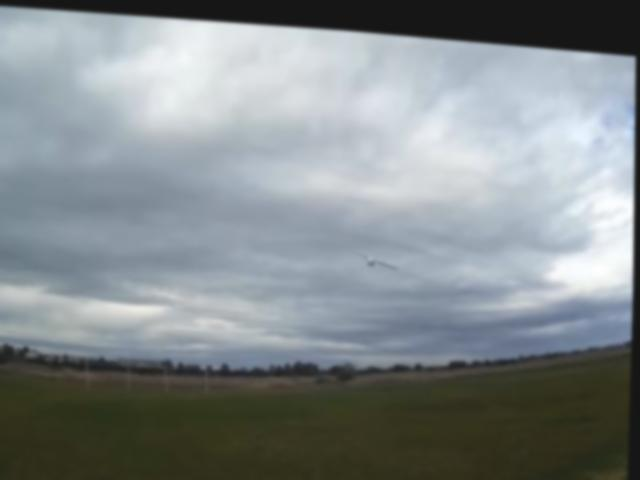uav: (347, 237, 403, 270)
